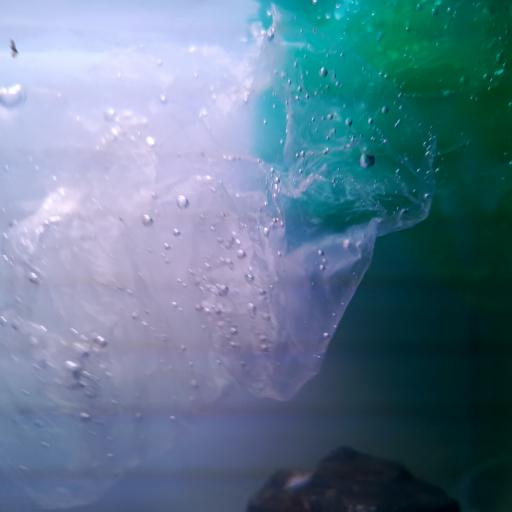plastic_bag: (2, 35, 384, 501), (245, 7, 512, 294)
plastic_cup: (452, 454, 512, 512)
